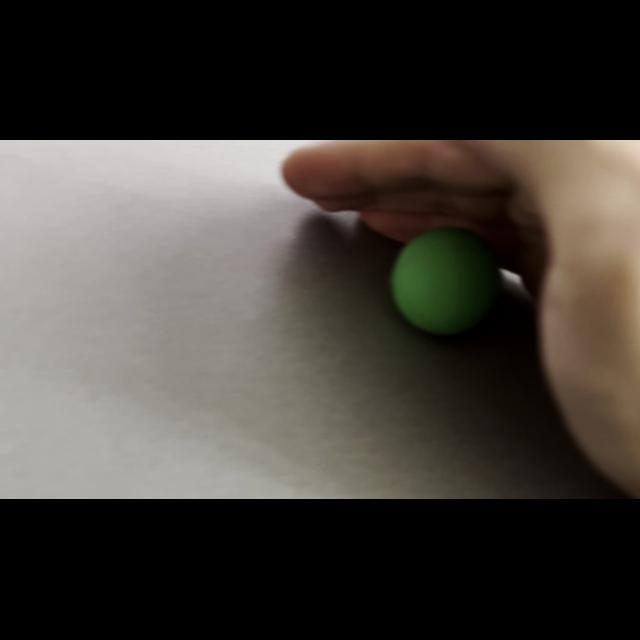objects: (379, 222, 503, 344)
